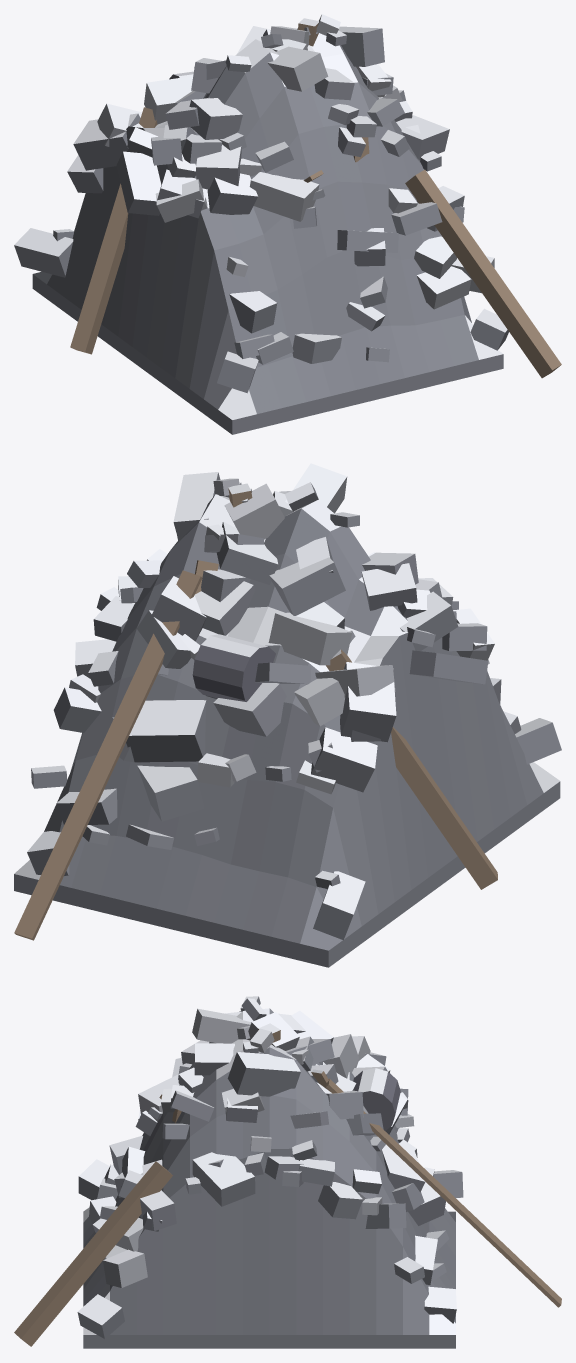
The model's file is PR_Bloqueio_Viela_B.fbx.
The picture shows the model from 3 angles, top to bottom: view 1: azimuth 30°, elevation 25°; view 2: azimuth 150°, elevation 25°; view 3: azimuth 270°, elevation 25°; orthographic projection. The views are drawn at different scales.
Parts seen in each view (by area): view 1: PR_Bloqueio_Viela_B; view 2: PR_Bloqueio_Viela_B; view 3: PR_Bloqueio_Viela_B.
Boxes of the visible parts, x1,y1,x2,y2 form: PR_Bloqueio_Viela_B: (14,14,561,434); PR_Bloqueio_Viela_B: (14,463,561,967); PR_Bloqueio_Viela_B: (14,996,561,1348).
Bounding box in the file's own units: 7.49 × 6.24 × 10.88.
